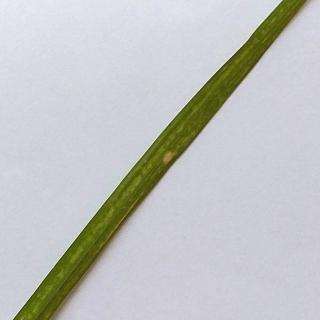Blast: (141, 137, 190, 195)
